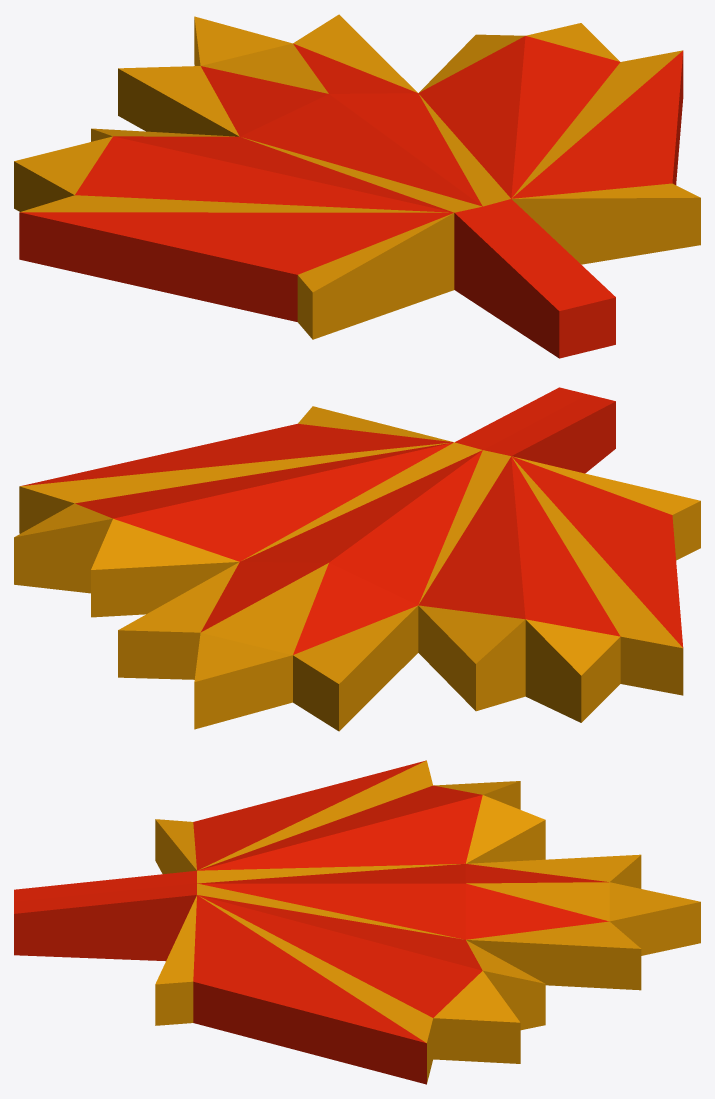
File: Momiji.fbx
3 views of the same model, one above another, from view 1: azimuth 30°, elevation 25°; view 2: azimuth 150°, elevation 25°; view 3: azimuth 270°, elevation 25° (orthographic). The views are drawn at different scales.
Parts seen in each view (by area): view 1: Maple; view 2: Maple; view 3: Maple.
Boxes of the visible parts, bbox=[...] form: Maple: bbox=[14, 14, 700, 358]; Maple: bbox=[14, 387, 700, 731]; Maple: bbox=[14, 760, 700, 1084].
Size of the model in its own units: 116 by 13.44 by 119.
